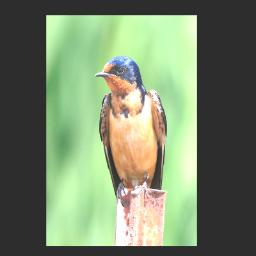Swallow: (94, 55, 168, 209)
